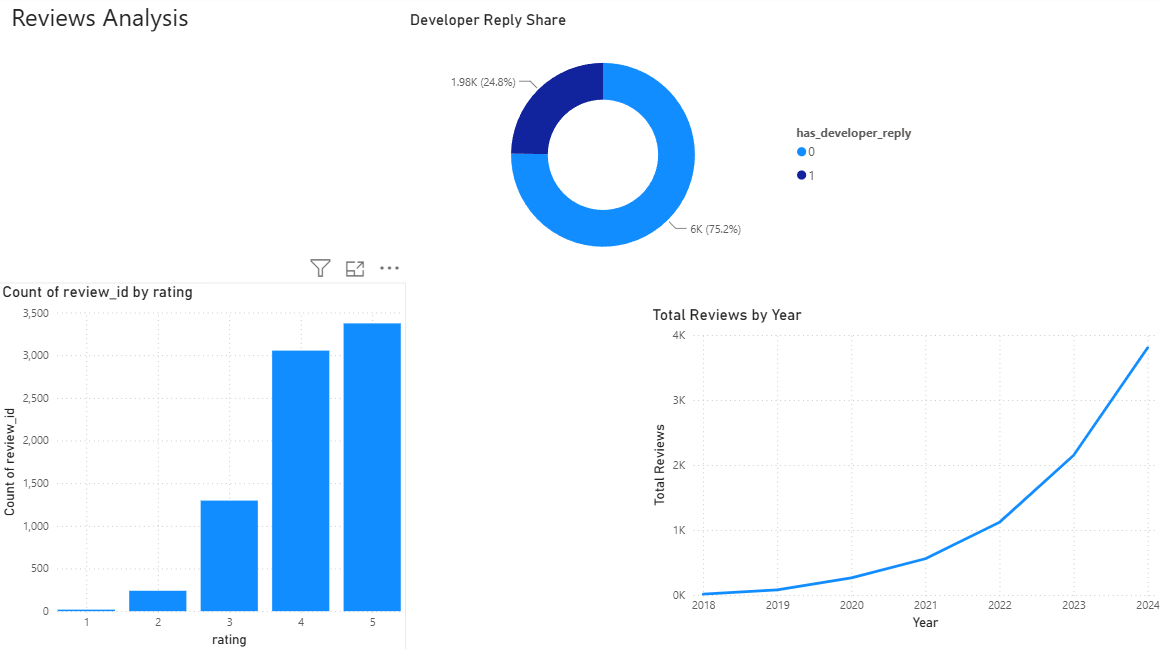

Layout of this report page (visuals, bound fields, positions):
{"tool":"powerbi","page":{"name":"Reviews Analysis","canvas":[1280,720],"ordinal":2},"visuals":[{"type":"textbox","box":[9.6,0,214.1,45.3],"z":0},{"type":"clusteredColumnChart","fields":{"Category":["reviews.rating"],"Y":["CountNonNull(reviews.review_id)"]},"box":[0,315.6,447.3,404.8],"z":1000},{"type":"lineChart","fields":{"Category":["dim_date.Year"],"Y":["reviews.Total Reviews"]},"box":[713.6,340.3,566.7,362.3],"z":2000},{"type":"donutChart","title":"Developer Reply Share","fields":{"Category":["reviews.has_developer_reply"],"Y":["CountNonNull(reviews.review_id)"]},"box":[447.3,16.5,575,299.1],"z":3000}]}

Visuals, with their boxes in screenshot pixels (x1, y1, x2, y2), scaled from the page's 1280x720 canvas onto the 1163x649 screenshot:
textbox: {"x1": 9, "y1": 0, "x2": 203, "y2": 41}
clusteredColumnChart - reviews.rating x CountNonNull(reviews.review_id): {"x1": 0, "y1": 284, "x2": 406, "y2": 648}
lineChart - dim_date.Year x reviews.Total Reviews: {"x1": 648, "y1": 307, "x2": 1162, "y2": 633}
"Developer Reply Share" donutChart: {"x1": 406, "y1": 15, "x2": 929, "y2": 284}
